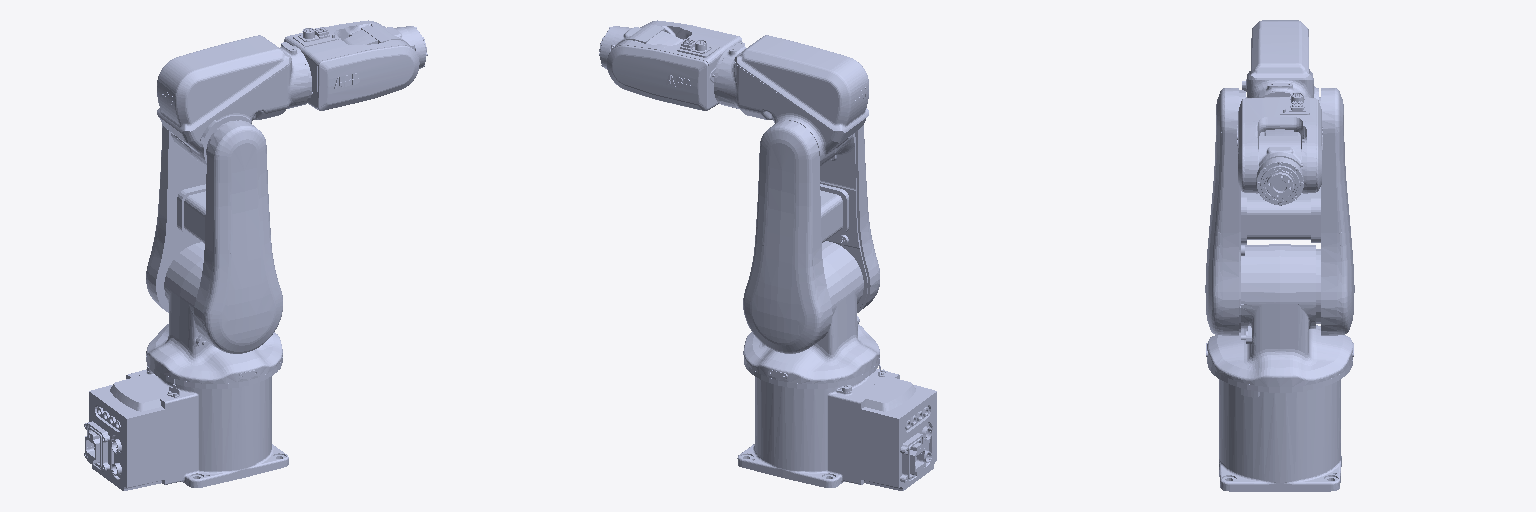
URDF robot description (serial.SLDASM):
<?xml version="1.0" encoding="utf-8"?>
<!-- This URDF was automatically created by SolidWorks to URDF Exporter! Originally created by [author] ([email redacted]) 
     Commit Version: 1.5.1-0-g916b5db  Build Version: 1.5.7152.31018
     For more information, please see http://wiki.ros.org/sw_urdf_exporter -->
<robot
  name="serial.SLDASM">
  <link
    name="base_link">
    <inertial>
      <origin
        xyz="0.0725516018883594 0.220727877810209 0.218153757678706"
        rpy="0 0 0" />
      <mass
        value="6.21505766968738" />
      <inertia
        ixx="0.0246213301094848"
        ixy="-0.000231714907040393"
        ixz="-2.57860241608453E-05"
        iyy="0.0251985536186154"
        iyz="-5.60857668359365E-06"
        izz="0.0270340937515318" />
    </inertial>
    <visual>
      <origin
        xyz="0 0 0"
        rpy="0 0 0" />
      <geometry>
        <mesh
          filename="package://serial.SLDASM/meshes/base_link.STL" />
      </geometry>
      <material
        name="">
        <color
          rgba="0.792156862745098 0.819607843137255 0.933333333333333 1" />
      </material>
    </visual>
    <collision>
      <origin
        xyz="0 0 0"
        rpy="0 0 0" />
      <geometry>
        <mesh
          filename="package://serial.SLDASM/meshes/base_link.STL" />
      </geometry>
    </collision>
  </link>
  <link
    name="link1">
    <inertial>
      <origin
        xyz="9.76589412625267E-05 0.0834116290197877 0.000119237734629712"
        rpy="0 0 0" />
      <mass
        value="3.0670070540321" />
      <inertia
        ixx="0.0122690989356072"
        ixy="4.3954080640488E-08"
        ixz="6.02899288644477E-08"
        iyy="0.0104205493287148"
        iyz="1.02304553389052E-05"
        izz="0.0124355494614165" />
    </inertial>
    <visual>
      <origin
        xyz="0 0 0"
        rpy="0 0 0" />
      <geometry>
        <mesh
          filename="package://serial.SLDASM/meshes/link1.STL" />
      </geometry>
      <material
        name="">
        <color
          rgba="0.792156862745098 0.819607843137255 0.933333333333333 1" />
      </material>
    </visual>
    <collision>
      <origin
        xyz="0 0 0"
        rpy="0 0 0" />
      <geometry>
        <mesh
          filename="package://serial.SLDASM/meshes/link1.STL" />
      </geometry>
    </collision>
  </link>
  <joint
    name="joint1"
    type="continuous">
    <origin
      xyz="0.11459 -0.21823 0.29609"
      rpy="1.5708 0 0" />
    <parent
      link="base_link" />
    <child
      link="link1" />
    <axis
      xyz="0 1 0" />
  </joint>
  <link
    name="link2">
    <inertial>
      <origin
        xyz="0.00077830104251439 0.10124202645933 0.00211705037279067"
        rpy="0 0 0" />
      <mass
        value="3.90862863184809" />
      <inertia
        ixx="0.0381249830629759"
        ixy="-2.40126255203602E-07"
        ixz="-6.60461399452359E-07"
        iyy="0.0047263645764291"
        iyz="2.44761729373E-05"
        izz="0.0405763332694933" />
    </inertial>
    <visual>
      <origin
        xyz="0 0 0"
        rpy="0 0 0" />
      <geometry>
        <mesh
          filename="package://serial.SLDASM/meshes/link2.STL" />
      </geometry>
      <material
        name="">
        <color
          rgba="0.792156862745098 0.819607843137255 0.933333333333333 1" />
      </material>
    </visual>
    <collision>
      <origin
        xyz="0 0 0"
        rpy="0 0 0" />
      <geometry>
        <mesh
          filename="package://serial.SLDASM/meshes/link2.STL" />
      </geometry>
    </collision>
  </link>
  <joint
    name="joint2"
    type="continuous">
    <origin
      xyz="0 0.135 0"
      rpy="0 0 0" />
    <parent
      link="link1" />
    <child
      link="link2" />
    <axis
      xyz="0 0 1" />
  </joint>
  <link
    name="link3">
    <inertial>
      <origin
        xyz="0.0228083367443053 0.0579104494587143 -0.00106452575977115"
        rpy="0 0 0" />
      <mass
        value="2.94369944660621" />
      <inertia
        ixx="0.00563959202028892"
        ixy="-0.0031991159759046"
        ixz="-0.00012138238991133"
        iyy="0.0109002943377366"
        iyz="-0.000112913711267989"
        izz="0.0122022377961915" />
    </inertial>
    <visual>
      <origin
        xyz="0 0 0"
        rpy="0 0 0" />
      <geometry>
        <mesh
          filename="package://serial.SLDASM/meshes/link3.STL" />
      </geometry>
      <material
        name="">
        <color
          rgba="0.792156862745098 0.819607843137255 0.933333333333333 1" />
      </material>
    </visual>
    <collision>
      <origin
        xyz="0 0 0"
        rpy="0 0 0" />
      <geometry>
        <mesh
          filename="package://serial.SLDASM/meshes/link3.STL" />
      </geometry>
    </collision>
  </link>
  <joint
    name="joint3"
    type="continuous">
    <origin
      xyz="0 0.27 0"
      rpy="0 0 -0.010979" />
    <parent
      link="link2" />
    <child
      link="link3" />
    <axis
      xyz="0 0 1" />
  </joint>
  <link
    name="link4">
    <inertial>
      <origin
        xyz="0.0776189087732966 0.00037207561828223 0.00456826828137849"
        rpy="0 0 0" />
      <mass
        value="1.44756178724788" />
      <inertia
        ixx="0.00109885970265437"
        ixy="5.69759264965823E-06"
        ixz="4.66299772114683E-05"
        iyy="0.00364168543151288"
        iyz="-8.38316827518287E-07"
        izz="0.00422295124408037" />
    </inertial>
    <visual>
      <origin
        xyz="0 0 0"
        rpy="0 0 0" />
      <geometry>
        <mesh
          filename="package://serial.SLDASM/meshes/link4.STL" />
      </geometry>
      <material
        name="">
        <color
          rgba="0.792156862745098 0.819607843137255 0.933333333333333 1" />
      </material>
    </visual>
    <collision>
      <origin
        xyz="0 0 0"
        rpy="0 0 0" />
      <geometry>
        <mesh
          filename="package://serial.SLDASM/meshes/link4.STL" />
      </geometry>
    </collision>
  </link>
  <joint
    name="joint4"
    type="continuous">
    <origin
      xyz="0.14856 0.07 0"
      rpy="0 0 0" />
    <parent
      link="link3" />
    <child
      link="link4" />
    <axis
      xyz="1 0 0" />
  </joint>
  <link
    name="link5">
    <inertial>
      <origin
        xyz="-0.0010948508660592 6.22178106535198E-05 -3.68647259293697E-05"
        rpy="0 0 0" />
      <mass
        value="0.546625871189751" />
      <inertia
        ixx="0.000404578340116312"
        ixy="-4.25564529841907E-07"
        ixz="1.84455158668637E-06"
        iyy="0.000290010029250155"
        iyz="-8.73841771658394E-09"
        izz="0.000367478457848093" />
    </inertial>
    <visual>
      <origin
        xyz="0 0 0"
        rpy="0 0 0" />
      <geometry>
        <mesh
          filename="package://serial.SLDASM/meshes/link5.STL" />
      </geometry>
      <material
        name="">
        <color
          rgba="0.792156862745098 0.819607843137255 0.933333333333333 1" />
      </material>
    </visual>
    <collision>
      <origin
        xyz="0 0 0"
        rpy="0 0 0" />
      <geometry>
        <mesh
          filename="package://serial.SLDASM/meshes/link5.STL" />
      </geometry>
    </collision>
  </link>
  <joint
    name="joint5"
    type="continuous">
    <origin
      xyz="0.15344 0 0"
      rpy="0 0 0.02355" />
    <parent
      link="link4" />
    <child
      link="link5" />
    <axis
      xyz="0 0 1" />
  </joint>
  <link
    name="llink6">
    <inertial>
      <origin
        xyz="-1.32366912963811E-06 0.000169581014389769 0.00663373751448204"
        rpy="0 0 0" />
      <mass
        value="0.0136784203906924" />
      <inertia
        ixx="1.65769997950876E-06"
        ixy="-3.06372521917405E-12"
        ixz="8.91499435340408E-11"
        iyy="1.6942672630979E-06"
        iyz="-7.66250297091095E-09"
        izz="2.9768141661034E-06" />
    </inertial>
    <visual>
      <origin
        xyz="0 0 0"
        rpy="0 0 0" />
      <geometry>
        <mesh
          filename="package://serial.SLDASM/meshes/llink6.STL" />
      </geometry>
      <material
        name="">
        <color
          rgba="0.792156862745098 0.819607843137255 0.933333333333333 1" />
      </material>
    </visual>
    <collision>
      <origin
        xyz="0 0 0"
        rpy="0 0 0" />
      <geometry>
        <mesh
          filename="package://serial.SLDASM/meshes/llink6.STL" />
      </geometry>
    </collision>
  </link>
  <joint
    name="joint6"
    type="continuous">
    <origin
      xyz="0.058304 0 0"
      rpy="1.5708 -0.57846 1.5708" />
    <parent
      link="link5" />
    <child
      link="llink6" />
    <axis
      xyz="0 0 1" />
  </joint>
</robot>

--- Render facts (derived) ---
3 views of the same robot in one strip: view 1: azimuth 30°, elevation 25°; view 2: azimuth 150°, elevation 25°; view 3: azimuth 270°, elevation 25° (orthographic).
Model serial.SLDASM with 7 links and 6 joints (6 continuous), rooted at base_link, posed all joints at 0.
Visible links, largest first — view 1: link2, base_link, link3, link1, link4, link5; view 2: link2, base_link, link3, link1, link4, link5; view 3: link2, link1, base_link, link4, link3, link5, llink6.
Boxes of the visible links, x1,y1,x2,y2 form: link2: (146, 120, 282, 353); base_link: (84, 366, 288, 490); link3: (157, 35, 312, 166); link1: (146, 242, 282, 388); link4: (284, 20, 419, 110); link5: (343, 25, 427, 68); link2: (743, 120, 879, 353); base_link: (737, 364, 936, 490); link3: (714, 35, 868, 165); link1: (743, 241, 879, 388); link4: (607, 20, 741, 110); link5: (599, 25, 682, 68); link2: (1205, 88, 1354, 335); link1: (1206, 244, 1353, 397); base_link: (1219, 379, 1341, 491); link4: (1237, 92, 1322, 193); link3: (1242, 20, 1320, 105); link5: (1256, 129, 1303, 205); llink6: (1267, 172, 1293, 198).
Bounding box of the posed robot: 0.5862 × 0.2193 × 0.6988 m (x, y, z).
7 mesh visuals loaded from 7 distinct referenced files (7 binary STL).